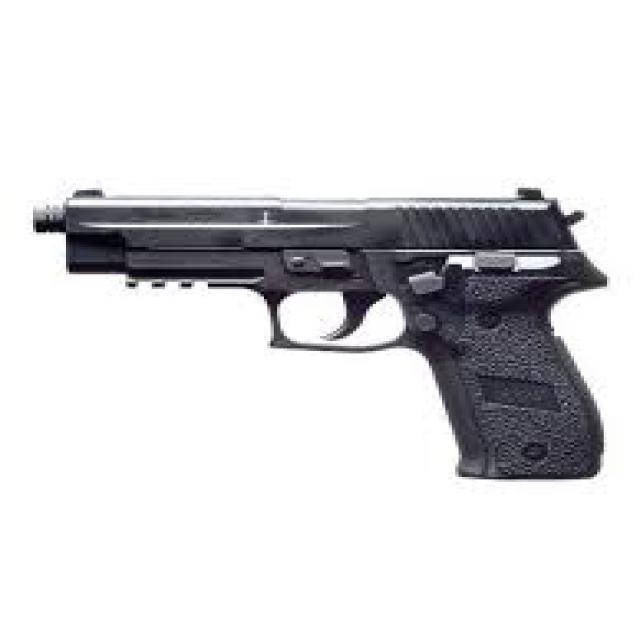pistol: (24, 180, 619, 491)
